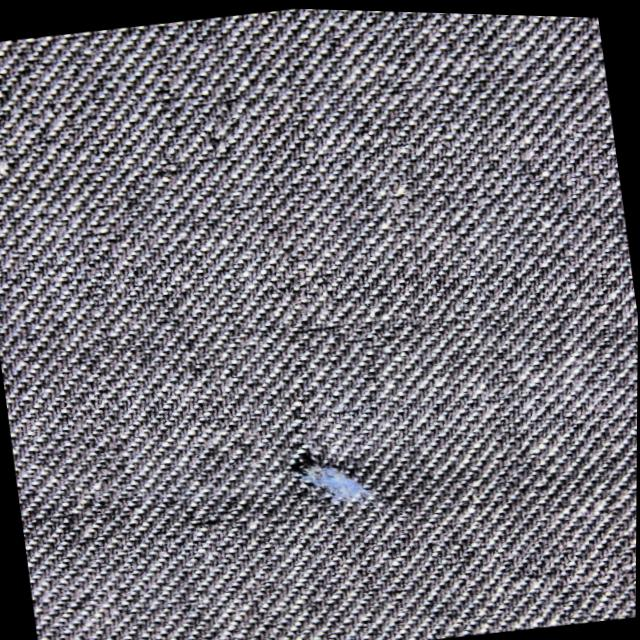Hole: (293, 455, 373, 499)
